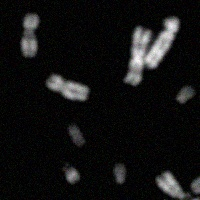chromosome: (123, 24, 152, 87), (144, 19, 179, 69), (46, 71, 90, 102), (155, 170, 200, 200), (20, 13, 40, 56), (111, 161, 128, 186), (61, 166, 82, 185), (176, 86, 195, 105), (190, 166, 200, 193)
